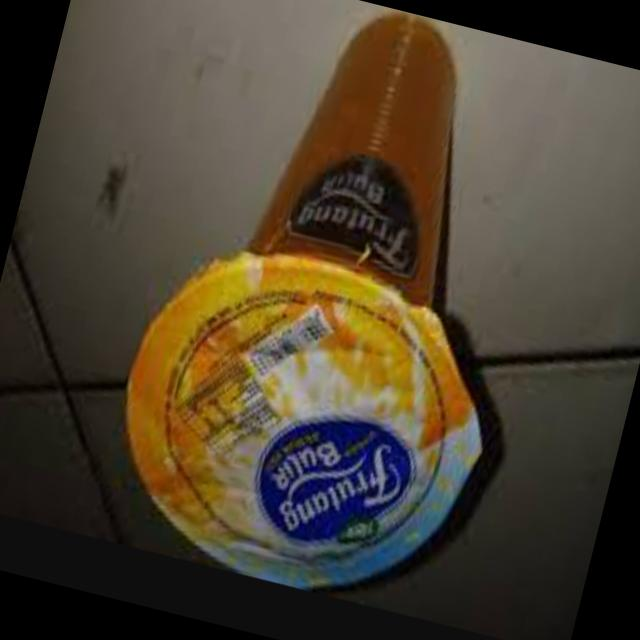GelasPlastik: (86, 0, 602, 631)
